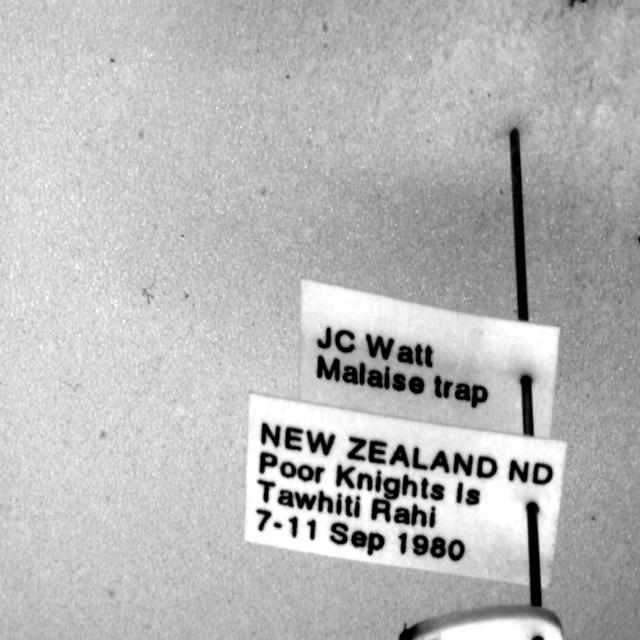typed_label: (245, 394, 566, 587), (300, 279, 560, 439)
